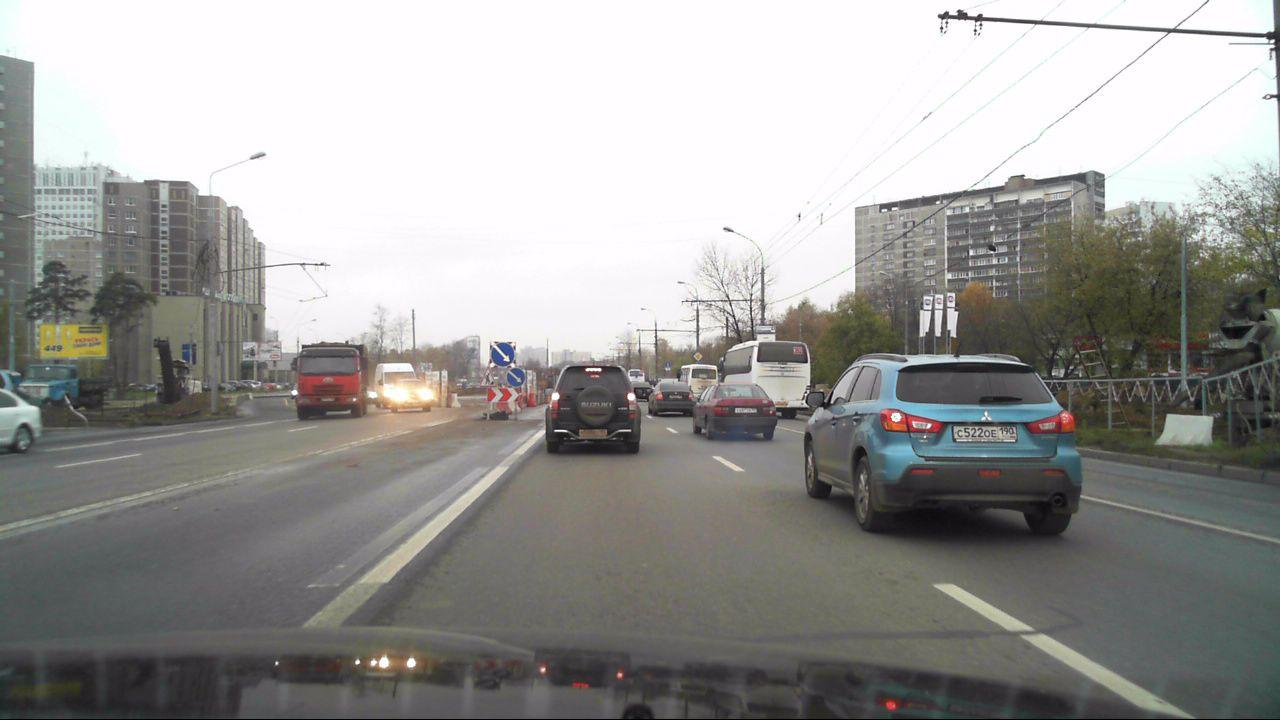1_25: (479, 368, 498, 387)
1_34_1: (488, 385, 518, 403)
2_1: (694, 351, 703, 360)
4_2_1: (492, 341, 513, 367), (506, 368, 525, 386)
